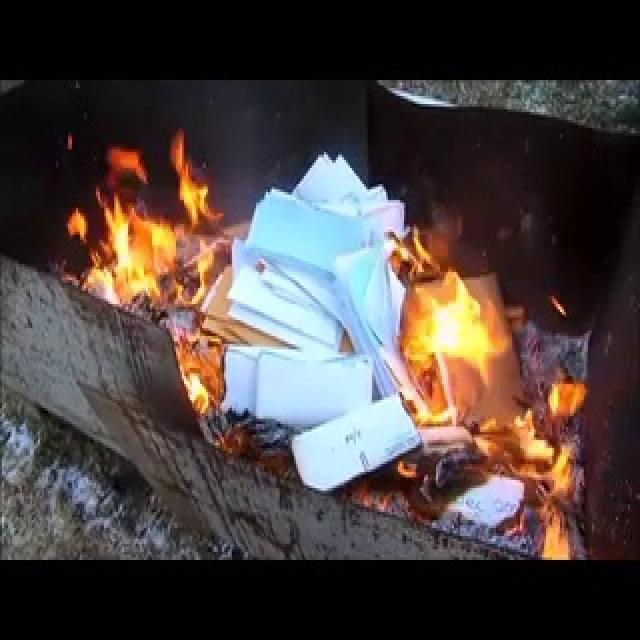fire: (383, 194, 531, 456), (50, 106, 220, 332)
